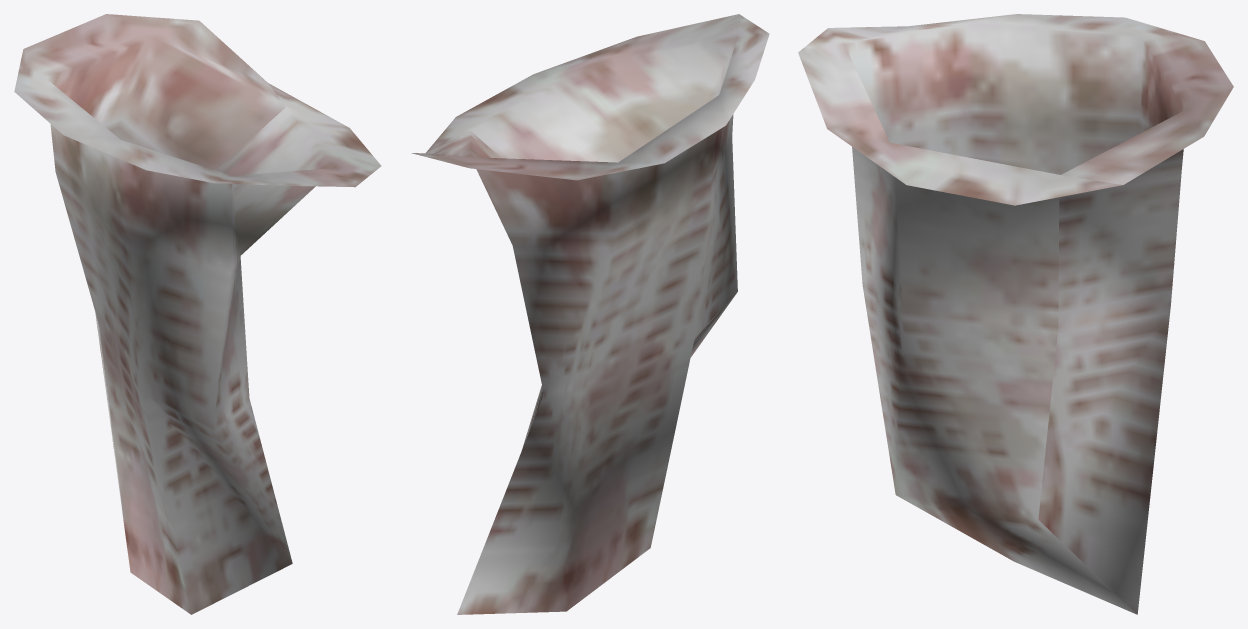
File: SM_TrashScrapCup_01_B.fbx
The picture shows the model from 3 angles, left to right: view 1: azimuth 30°, elevation 25°; view 2: azimuth 150°, elevation 25°; view 3: azimuth 270°, elevation 25°; orthographic projection. The views are drawn at different scales.
Visible parts, largest first — view 1: SM_TrashScrapCup_01_B; view 2: SM_TrashScrapCup_01_B; view 3: SM_TrashScrapCup_01_B.
Part boxes in pixels (left/top/right/bottom): SM_TrashScrapCup_01_B: left=14, top=14, right=381, bottom=614; SM_TrashScrapCup_01_B: left=411, top=14, right=769, bottom=614; SM_TrashScrapCup_01_B: left=798, top=14, right=1233, bottom=614.
Bounding box in the file's own units: 5.16 × 7.15 × 9.22.
Materials: 1 (1 with a texture image).
